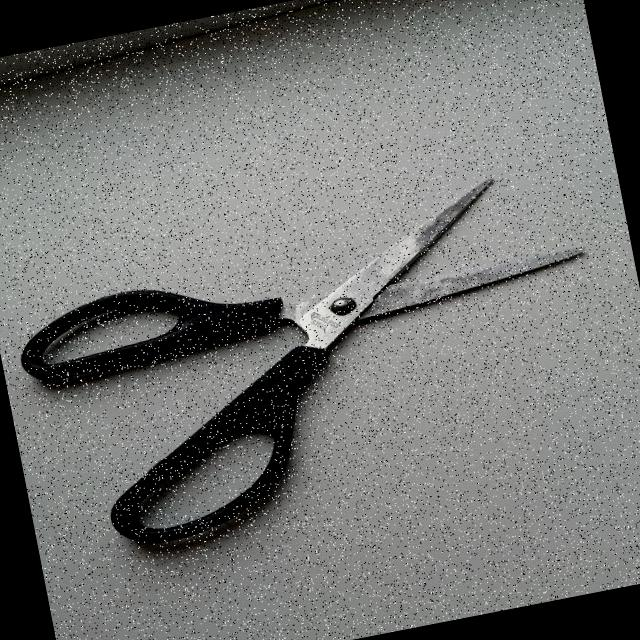scissors: (0, 155, 635, 568)
